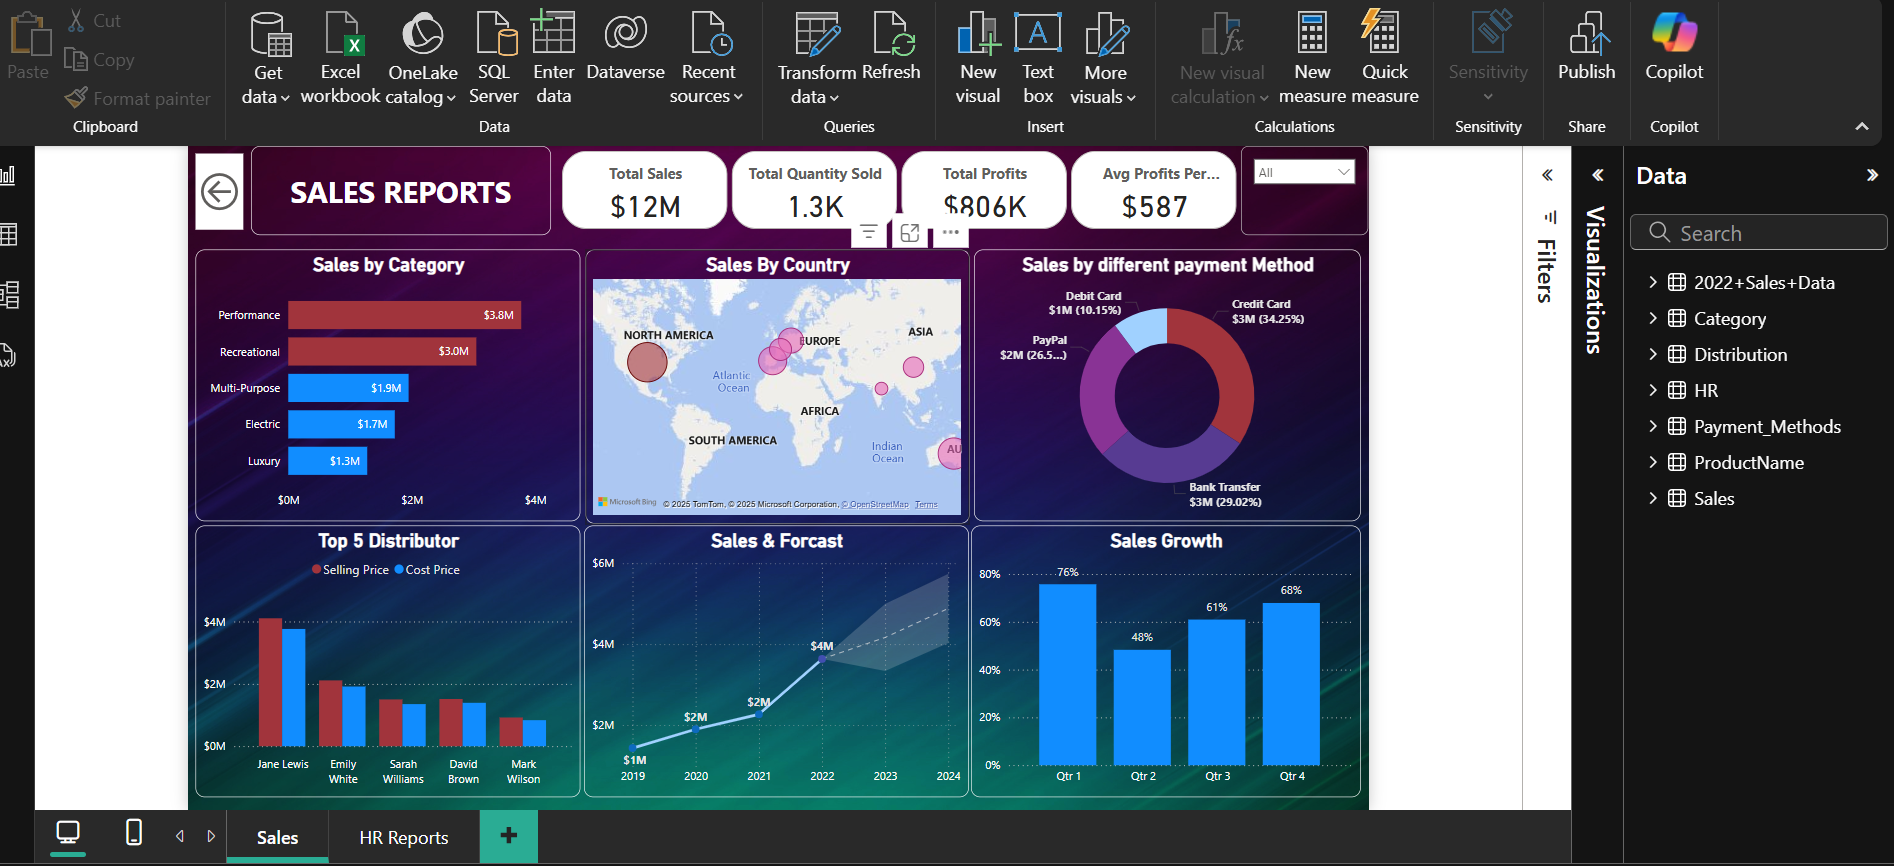

This screenshot's page, from the dashboard's own definition file:
{"tool":"powerbi","page":{"name":"Sales","canvas":[1280,720],"ordinal":0},"visuals":[{"type":"textbox","box":[68,0,325,96.4],"z":0},{"type":"cardVisual","fields":{"Data":["Sales.Sales($)","Sales.QuantitySold ","Sales.Profits","Sales.ProfitsPerUnits"]},"box":[393.1,0,748.4,96.4],"z":1000},{"type":"barChart","title":"Sales by Category","fields":{"Y":["Sales.Sales($)"],"Category":["Category.Category Type"]},"box":[7.6,111.5,417.6,294.8],"z":2000},{"type":"clusteredColumnChart","title":"Top 5 Distributor ","fields":{"Category":["Distribution.FullName"],"Y":["Sales.Sales($)","Sales.TotalProductionCostColumn"]},"box":[7.6,412,417.6,294.8],"z":3000},{"type":"clusteredColumnChart","title":"Sales Growth","fields":{"Y":["Sales.Sales($) YoY%"],"Category":["Sales.Date       .Variation.Date Hierarchy.Year","Sales.Date       .Variation.Date Hierarchy.Quarter","Sales.Date       .Variation.Date Hierarchy.Month","Sales.Date       .Variation.Date Hierarchy.Day"]},"box":[849.1,411.5,422.9,294.4],"z":4000},{"type":"lineChart","title":"Sales & Forcast","fields":{"Category":["Sales.Date       .Variation.Date Hierarchy.Year","Sales.Date       .Variation.Date Hierarchy.Quarter","Sales.Date       .Variation.Date Hierarchy.Month","Sales.Date       .Variation.Date Hierarchy.Day"],"Y":["Sales.Sales($)"]},"box":[429,412,417.6,294.8],"z":5000},{"type":"map","title":"Sales By Country","fields":{"Category":["Distribution.Country"],"Size":["Sales.Profits"]},"box":[431,112.2,416.4,297.7],"z":6000},{"type":"donutChart","title":"Sales by different payment Method","fields":{"Y":["Sales.Sales($)"],"Category":["Sales.Payment_Methods. PaymentMethod "]},"box":[852.3,112.2,419.6,294.4],"z":7000},{"type":"slicer","fields":{"Values":["Sales.Date       .Variation.Date Hierarchy.Year"]},"box":[1141.4,0,138,96.4],"z":8000},{"type":"actionButton","box":[8.1,8.1,52,83],"z":9000}]}

Visuals, with their boxes on the page's 1280x720 design canvas (x1, y1, x2, y2). These are canvas units, not pixel positions in the 1894x866 screenshot, which may show the page scaled, cropped or inside an application window:
textbox: 68/0/393/96
cardVisual - Sales.Sales($) x Sales.QuantitySold : 393/0/1142/96
"Sales by Category" barChart: 8/112/425/406
"Top 5 Distributor " clusteredColumnChart: 8/412/425/707
"Sales Growth" clusteredColumnChart: 849/412/1272/706
"Sales & Forcast" lineChart: 429/412/847/707
"Sales By Country" map: 431/112/847/410
"Sales by different payment Method" donutChart: 852/112/1272/407
slicer - Sales.Date       .Variation.Date Hierarchy.Year: 1141/0/1279/96
actionButton: 8/8/60/91
